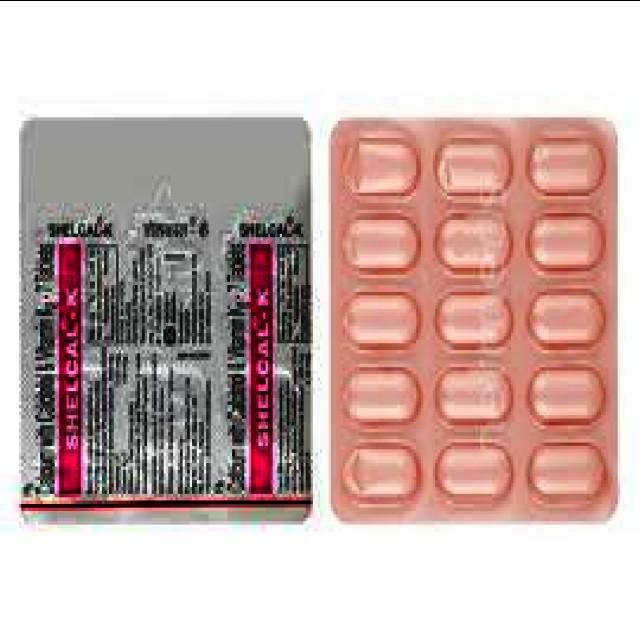authentic: (12, 108, 322, 531), (328, 94, 626, 534)
